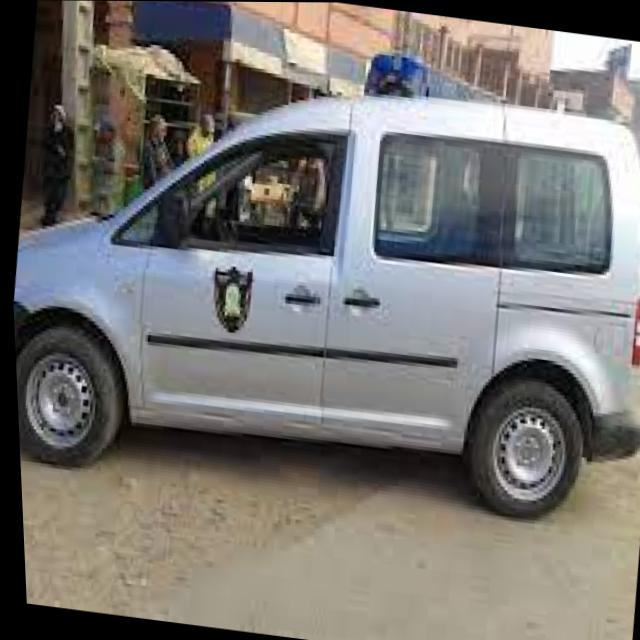gendarme car: (0, 0, 640, 542)
